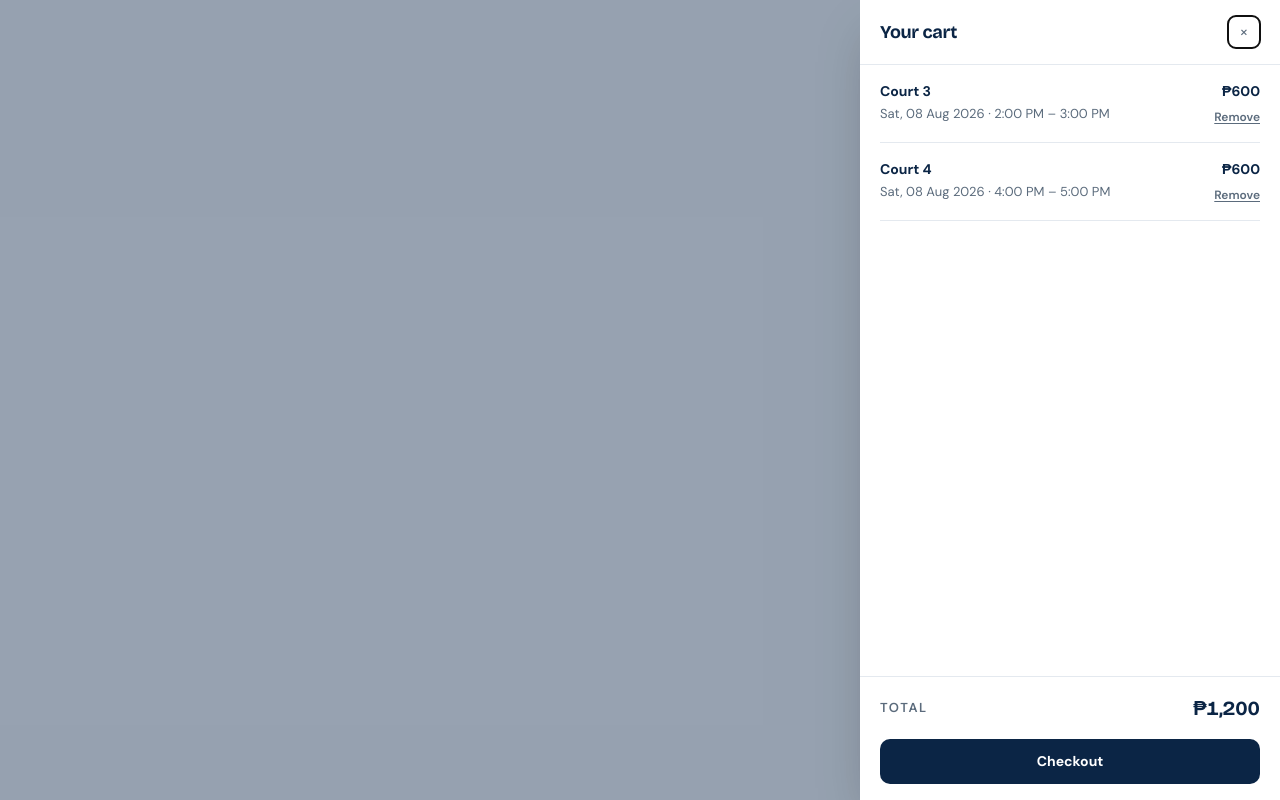
Test: CartDrawer › removes only the pressed court when the same court is held at two times
Click the button with aria-label "Remove Court 3". click: click(1237, 117)
box: x1=1214 y1=108 x2=1260 y2=126
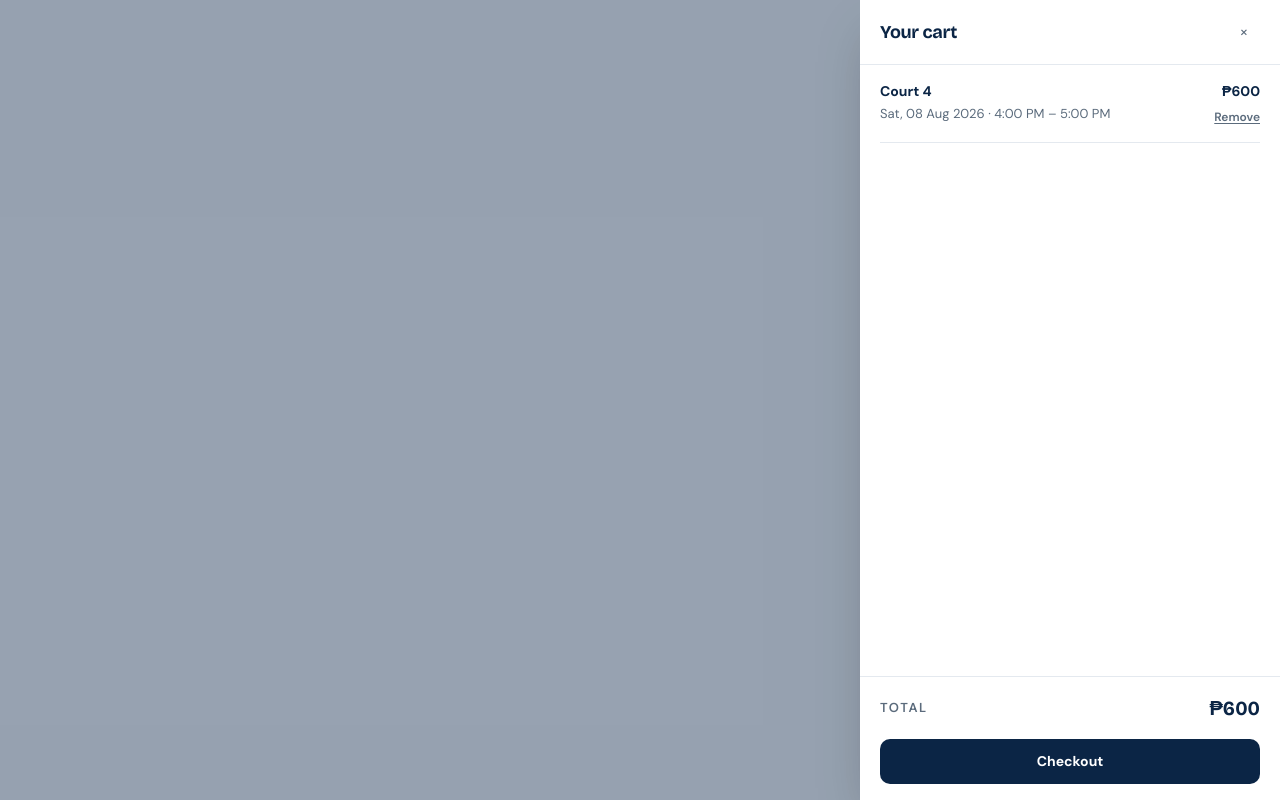
Expected: the text "Court 4" is shown, x1=880 y1=82 x2=932 y2=100
Result: the text "Court 3" is gone
